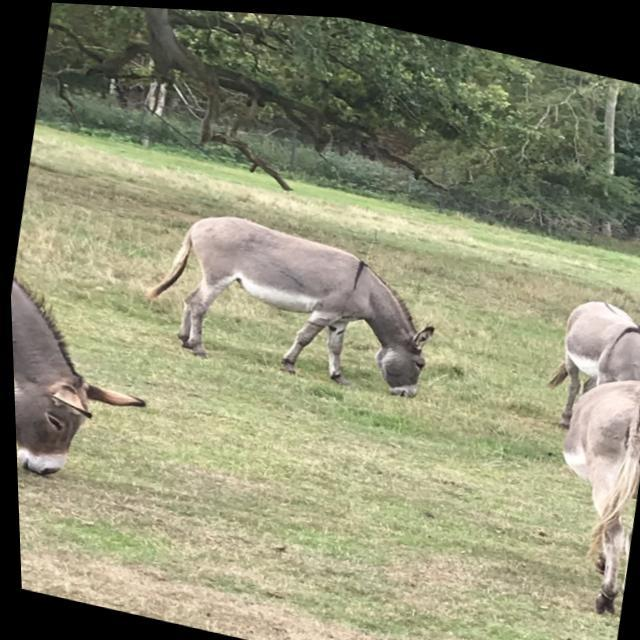Donkey: (128, 193, 446, 405), (8, 267, 164, 496), (525, 355, 640, 615), (530, 280, 640, 439)
